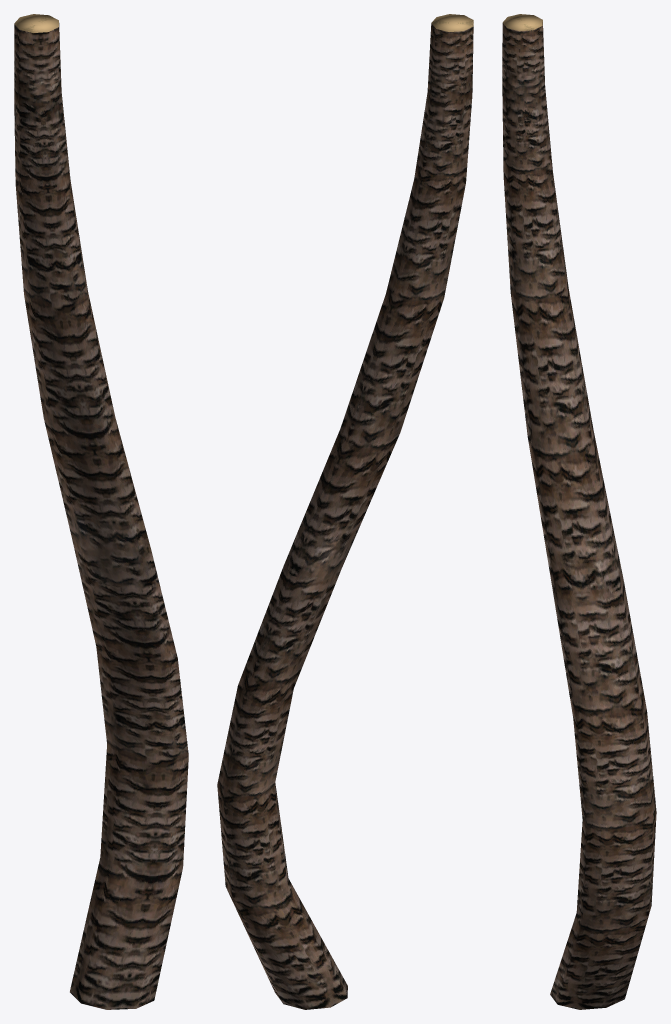
Rendered from Palm3MeshShape.dae.
The picture shows the model from 3 angles, left to right: view 1: azimuth 30°, elevation 25°; view 2: azimuth 150°, elevation 25°; view 3: azimuth 270°, elevation 25°; orthographic projection. The views are drawn at different scales.
Visible parts, largest first — view 1: Palm3Mesh; view 2: Palm3Mesh; view 3: Palm3Mesh.
Part boxes in pixels (x1=…): Palm3Mesh: x1=14, y1=14, x2=188, y2=1009; Palm3Mesh: x1=217, y1=14, x2=473, y2=1009; Palm3Mesh: x1=502, y1=14, x2=656, y2=1009.
Bounding box in the file's own units: 1.59 × 7.29 × 1.1.
